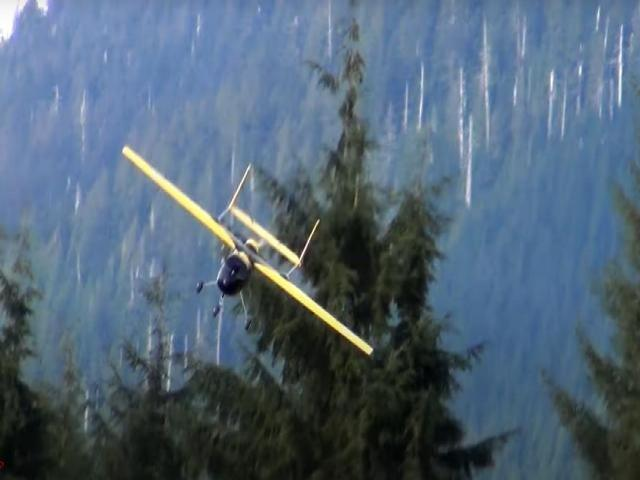iha: (115, 142, 381, 361)
